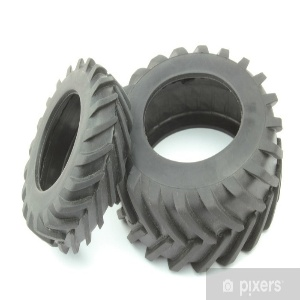tire: (117, 48, 286, 273), (20, 57, 129, 256)
